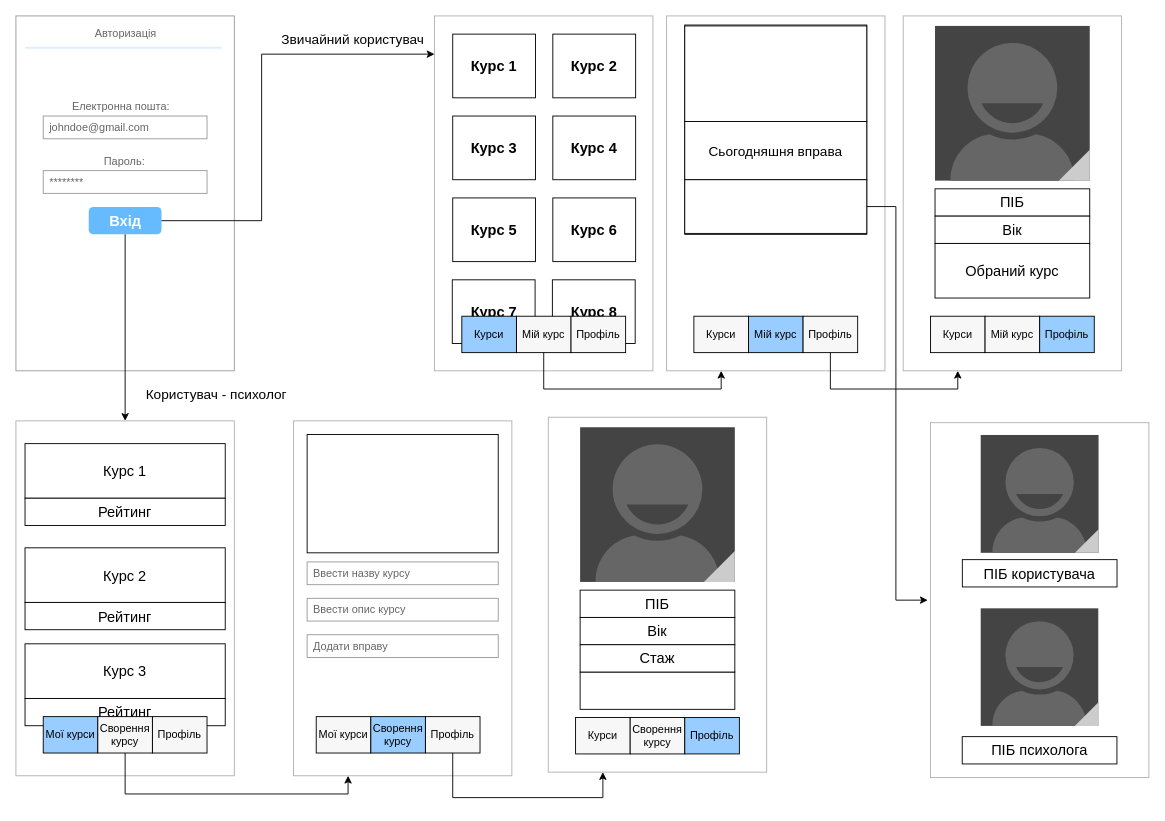
Image size: 1165x821. Some labels were removed from this diagram. The centre of each missing label's shape, as x and y in pixels:
"Додати обкладинку" belongs at [402,493].
"Консультація" belongs at [775,206].
"Обкладинка" belongs at [775,73].
"Середній рейтинг курсів" belongs at [657,690].
